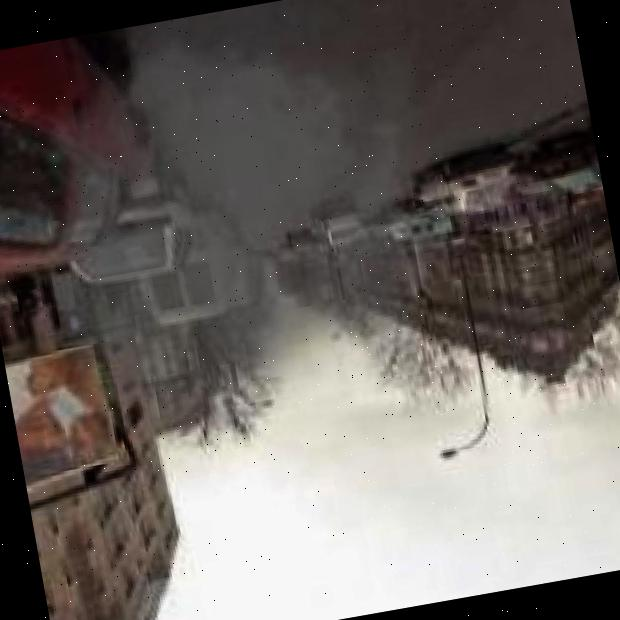smoke: (9, 0, 471, 448)
